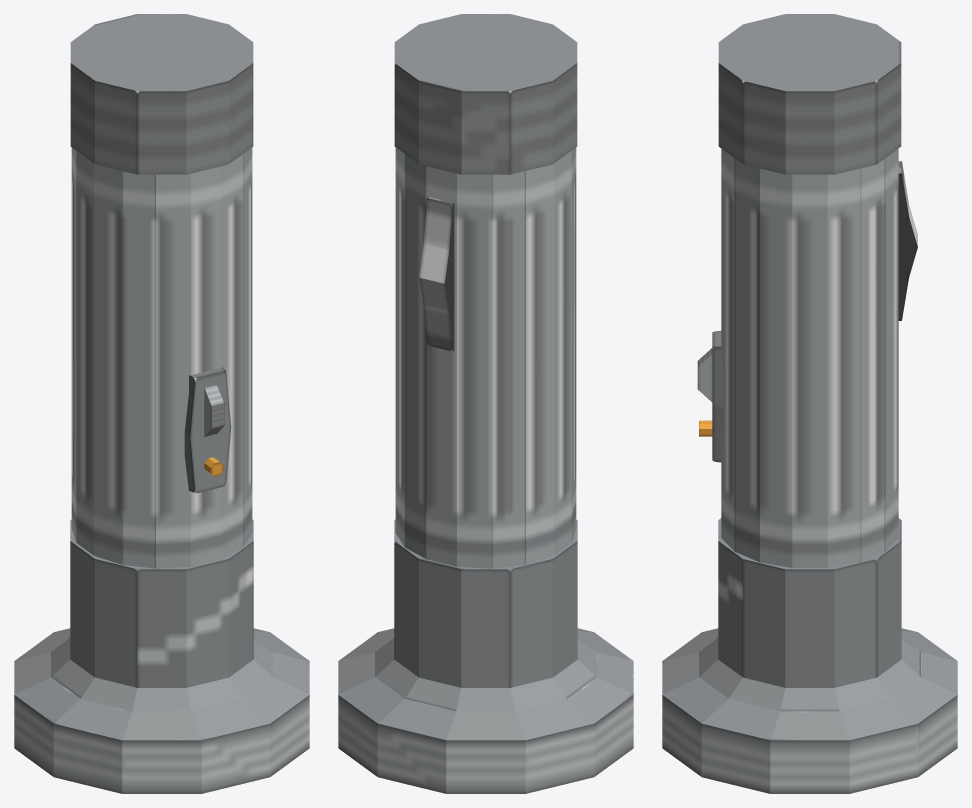
File: Flashlight.fbx
The picture shows the model from 3 angles, left to right: view 1: azimuth 30°, elevation 25°; view 2: azimuth 150°, elevation 25°; view 3: azimuth 270°, elevation 25°; orthographic projection.
Parts seen in each view (by area): view 1: Base, Upper Cover, Lid, Upper Cover Ring, Switch Base, Switch; view 2: Base, Upper Cover, Lid, Upper Cover Ring, Holder; view 3: Base, Upper Cover, Lid, Upper Cover Ring, Holder, Switch Base, Switch.
Part boxes in pixels (bbox=[...]): Base: bbox=[71, 90, 252, 571]; Upper Cover: bbox=[14, 628, 309, 793]; Lid: bbox=[70, 14, 253, 174]; Upper Cover Ring: bbox=[70, 519, 253, 687]; Switch Base: bbox=[184, 367, 231, 493]; Switch: bbox=[204, 385, 224, 436]; Base: bbox=[395, 90, 576, 571]; Upper Cover: bbox=[338, 628, 633, 793]; Lid: bbox=[394, 14, 577, 174]; Upper Cover Ring: bbox=[394, 519, 577, 687]; Holder: bbox=[419, 197, 454, 351]; Base: bbox=[721, 80, 898, 567]; Upper Cover: bbox=[662, 628, 957, 793]; Lid: bbox=[718, 14, 901, 174]; Upper Cover Ring: bbox=[718, 518, 901, 687]; Holder: bbox=[898, 161, 917, 320]; Switch Base: bbox=[712, 331, 723, 462]; Switch: bbox=[697, 346, 715, 402].
Size of the model in its own units: 7.81 by 19.8 by 7.81.
